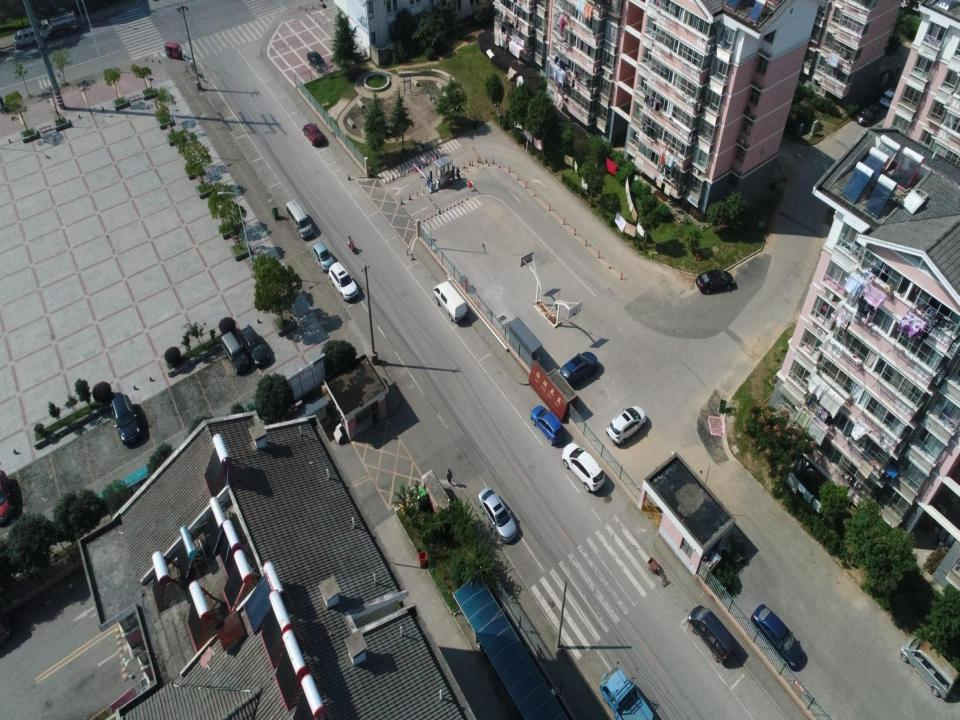car: (750, 604, 805, 669), (478, 486, 517, 544), (561, 442, 606, 492), (606, 405, 646, 447), (110, 394, 141, 446), (530, 405, 565, 446), (560, 351, 598, 388), (238, 325, 270, 367), (328, 262, 359, 301), (696, 270, 734, 294), (0, 469, 15, 526), (312, 241, 334, 272), (878, 86, 902, 108), (302, 122, 324, 146), (307, 51, 326, 73)
truck: (599, 668, 655, 720), (39, 10, 80, 39)
van: (899, 635, 959, 700), (687, 604, 735, 664), (433, 281, 467, 323), (220, 331, 250, 374), (286, 199, 314, 238), (13, 26, 39, 48), (856, 104, 881, 126)
